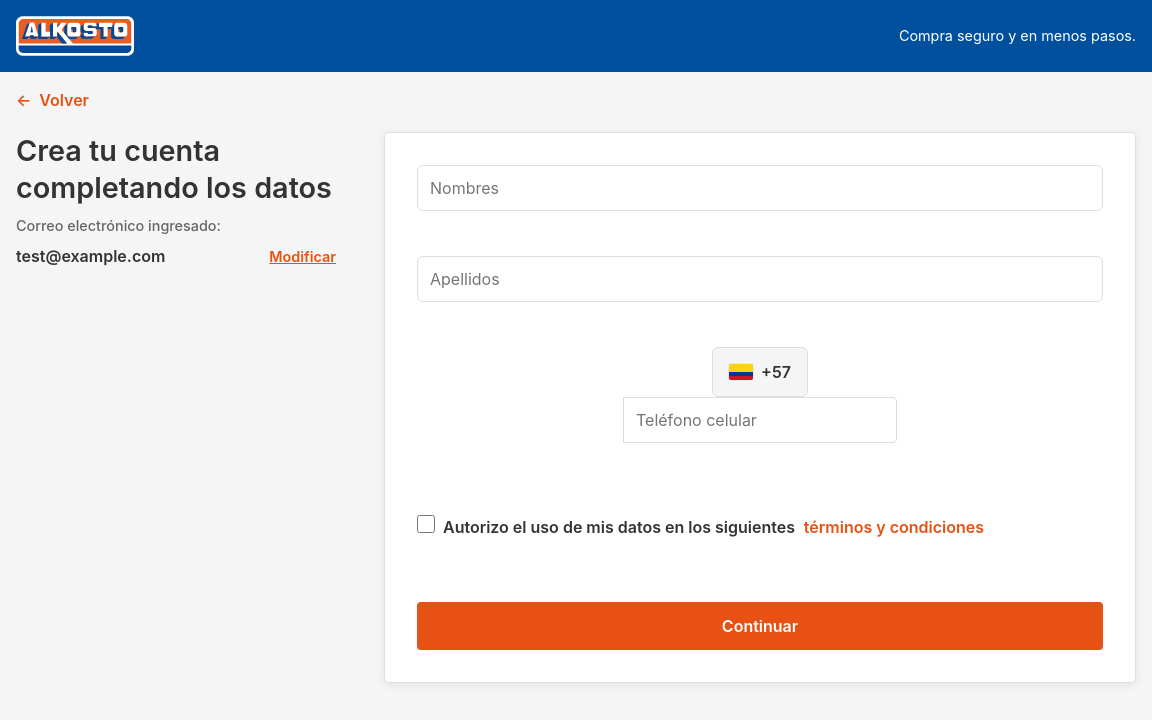
Test: RF01 - REGISTRAR USUARIO - Pruebas Unitarias Completas › 3. Validaciones - Pruebas de Caja Negra › 3.3 Validación de campo "Apellidos" vacío
The image size is (1152, 720).
Type "Juan" into the field with placeholder "Nombres" at (760, 188), box 417,165 -> 1103,211
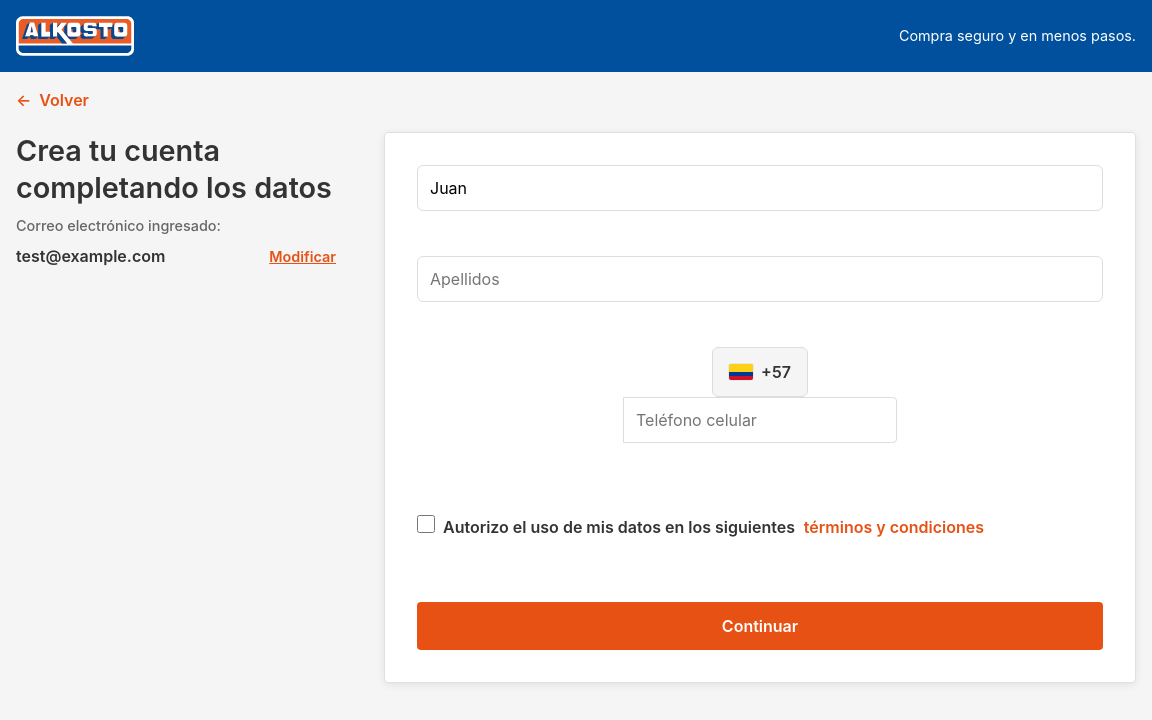
Click the button "Continuar" at (760, 626), box 417,602 -> 1103,650
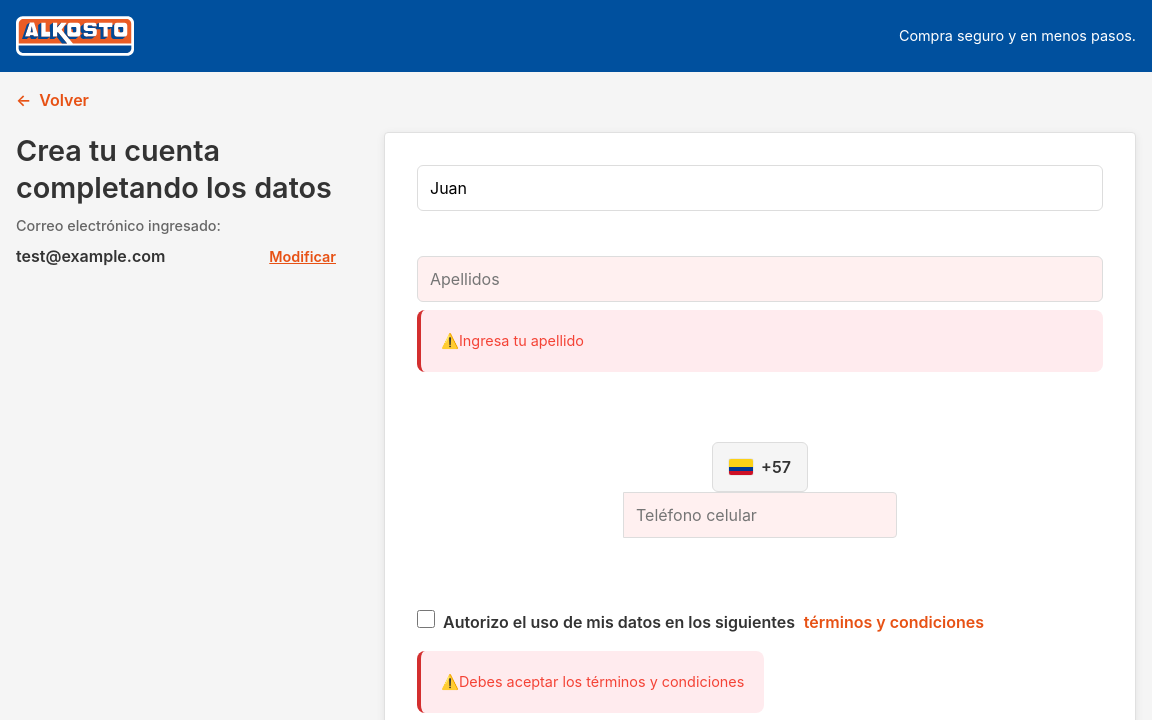
Now the text "Ingresa tu apellido" is shown, box 417,310 -> 1103,372
